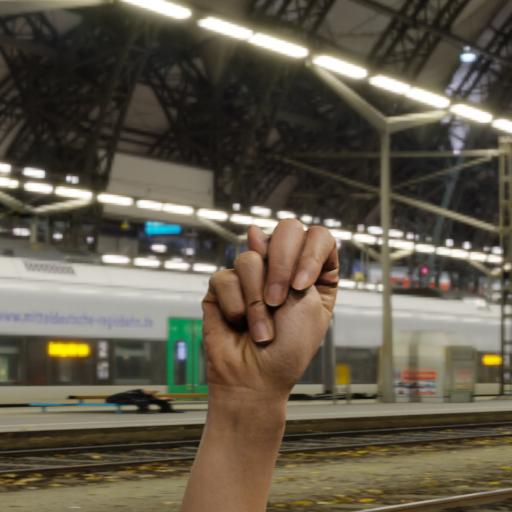N: (182, 217, 346, 512)
